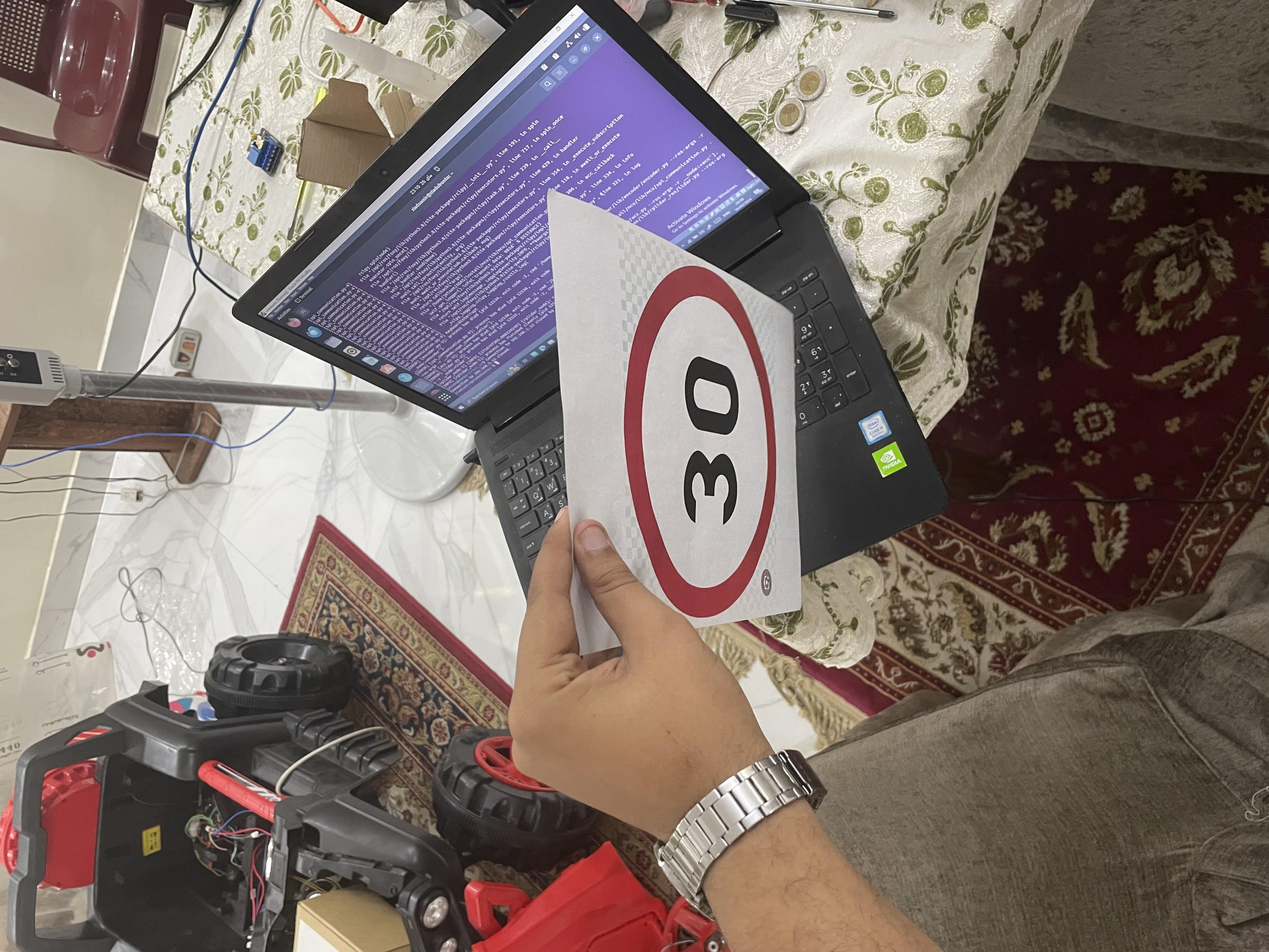30-speed: (442, 466, 941, 589)
